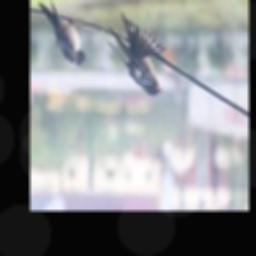Swallow: (107, 11, 166, 97), (39, 0, 86, 66)
